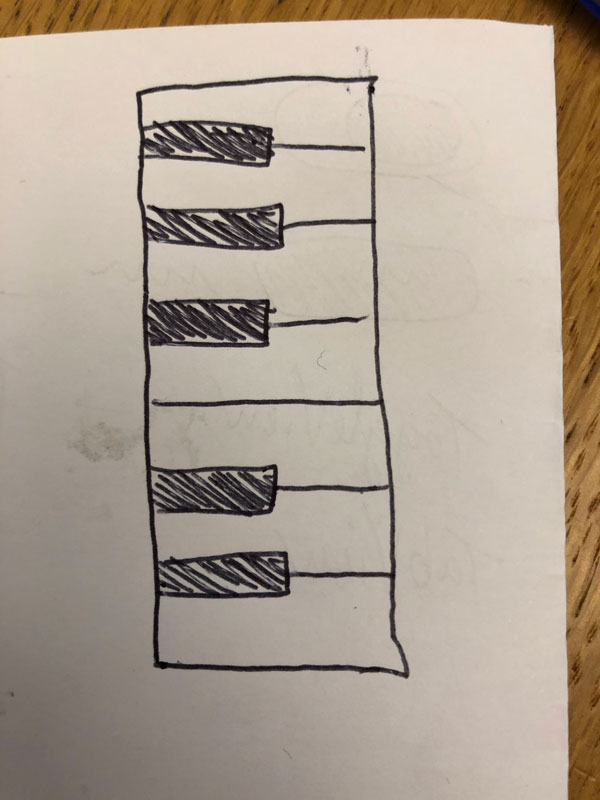piano: (133, 77, 410, 678)
